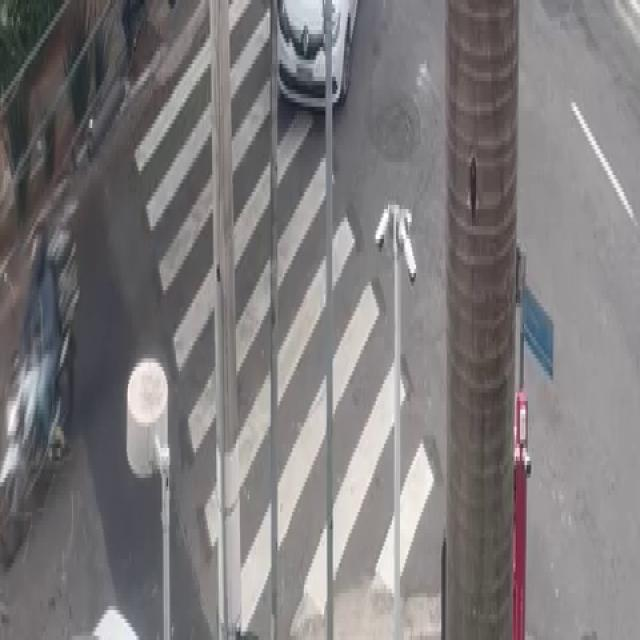car: (260, 0, 360, 145)
motorbike: (0, 349, 82, 559)
